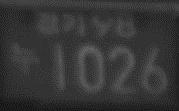0: (77, 45, 106, 91)
1: (45, 41, 72, 91)
2: (107, 45, 137, 94)
6: (140, 46, 167, 95)
8: (116, 12, 137, 39)
9: (92, 12, 112, 38)
경기_O: (35, 12, 87, 39)
누: (12, 41, 41, 76)
